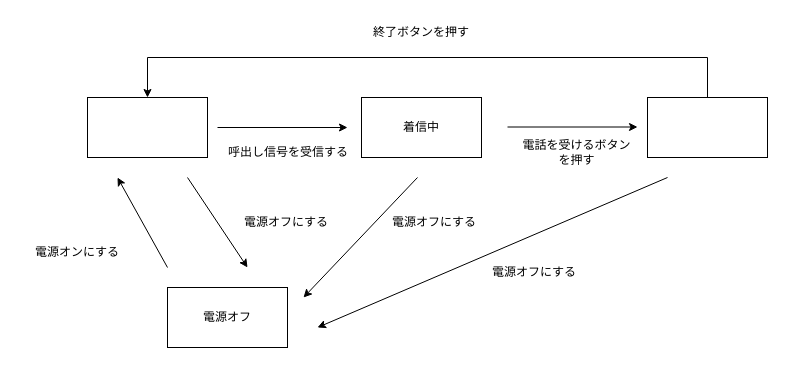
This 785x365 diagram has some shape labels left out. The shapes that lost their labels are listed below. From the top down, each one's box as (x1, y1, x2, y2) in pixels, then its label:
(86, 96, 208, 158): 待受中
(646, 96, 768, 158): 通話中
